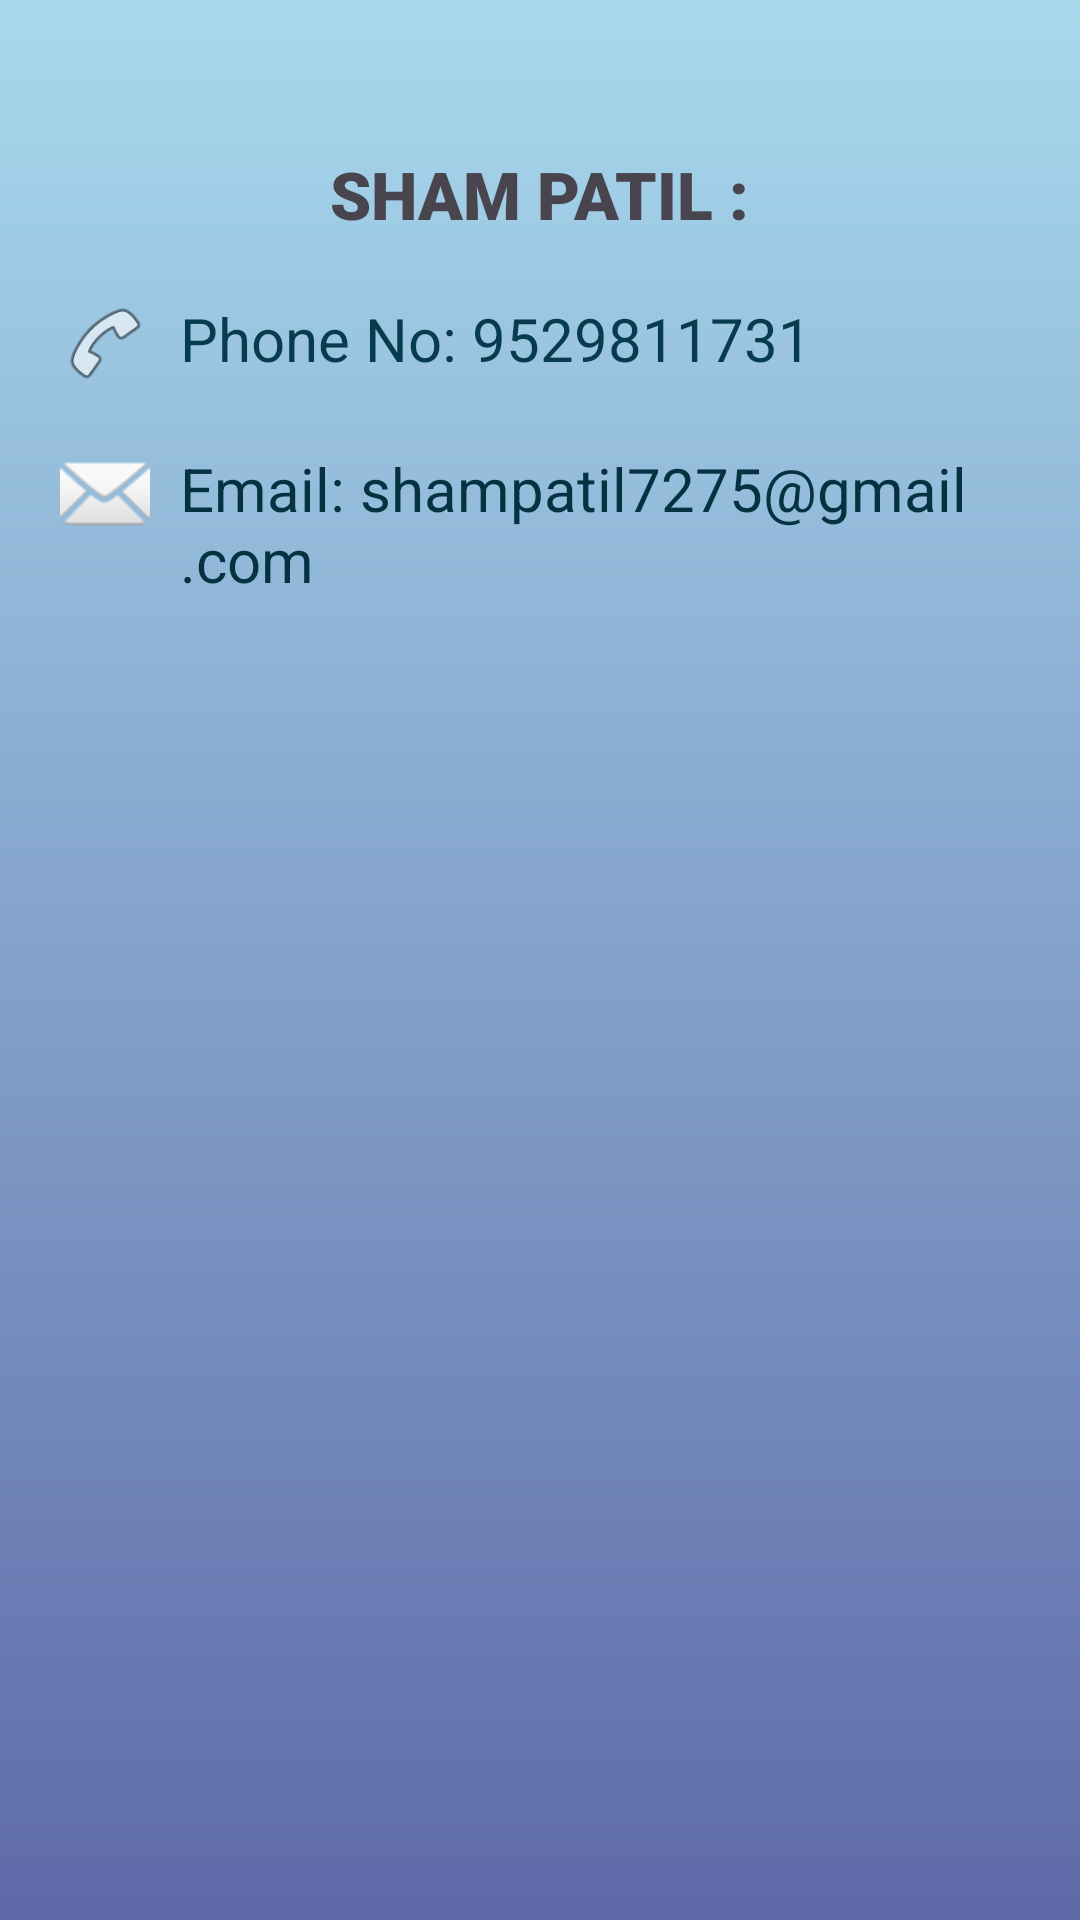

Named icons in this screenshot (1080×1920) and their centers, point (x, y):
call: point (105, 343)
